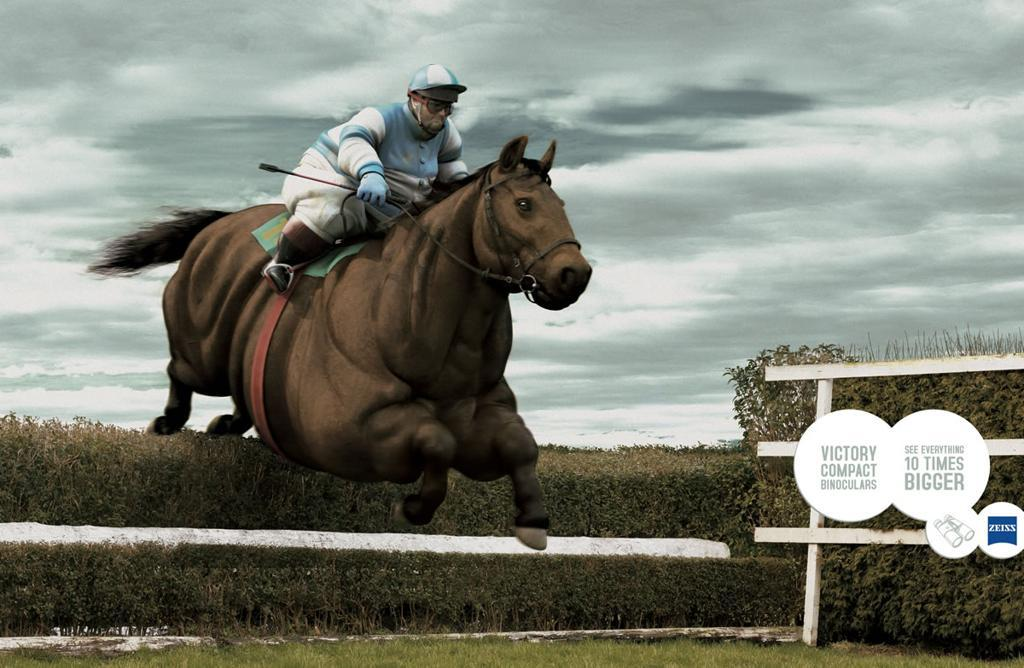face: (420, 87, 453, 130)
